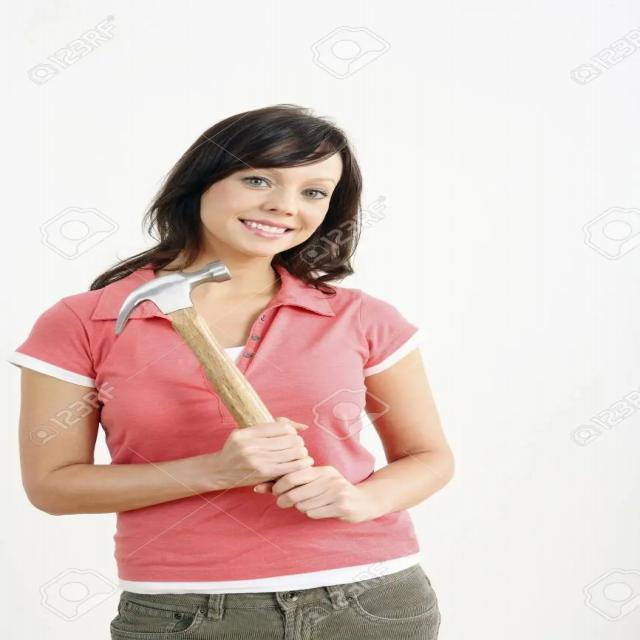hammer: (99, 255, 304, 479)
